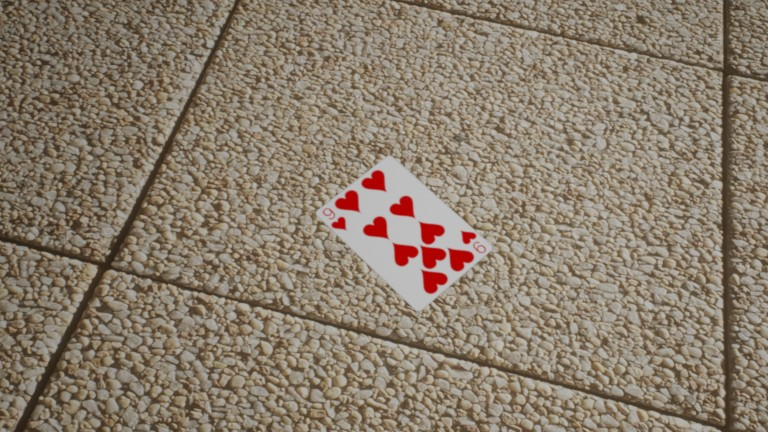9_of_hearts: (453, 224, 492, 258), (317, 203, 354, 236)
